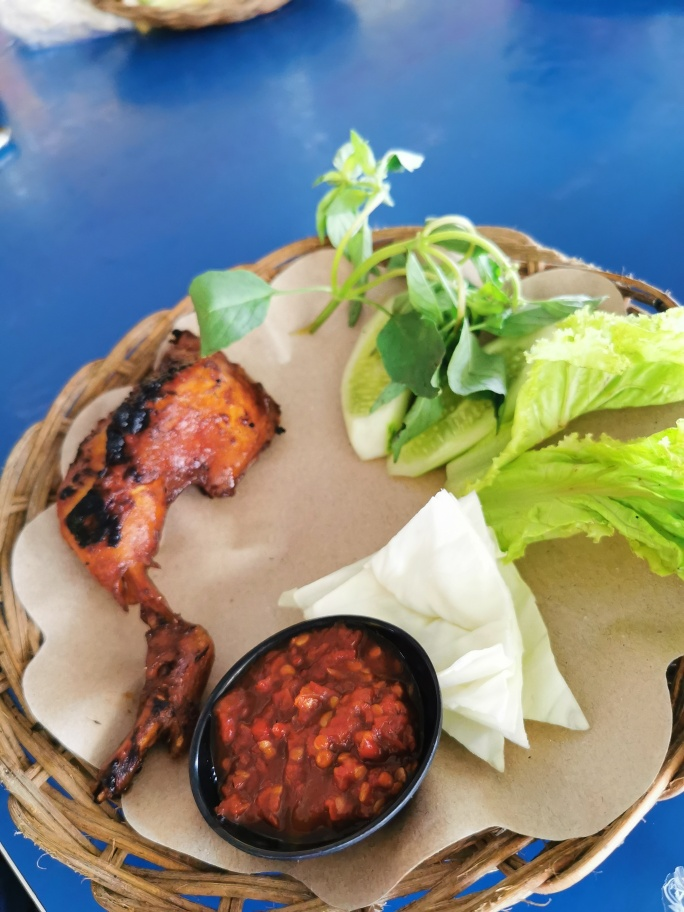ayam bakar: (42, 322, 286, 807)
